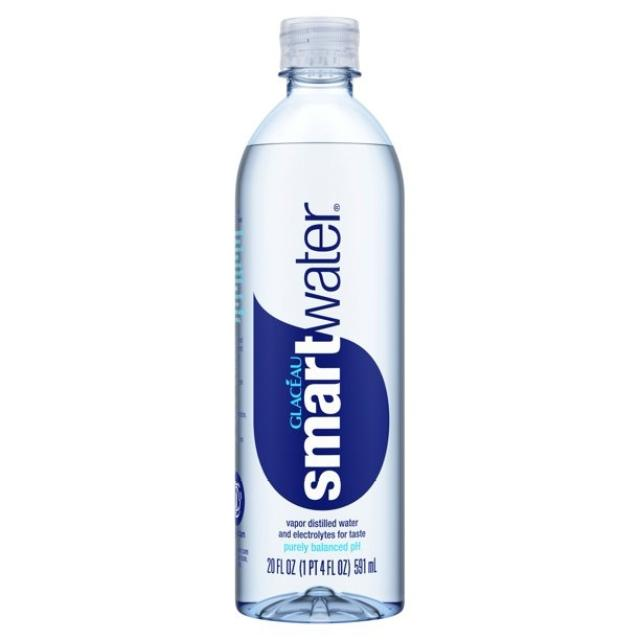plastic_bottle: (233, 15, 406, 624)
